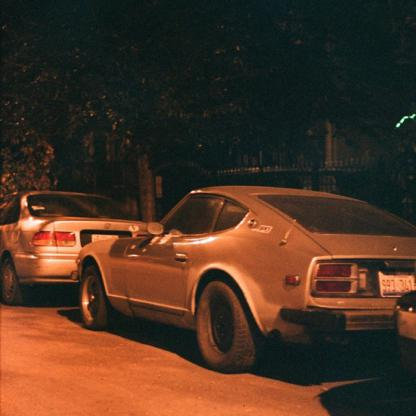Car: (70, 185, 415, 374), (0, 190, 150, 306)
